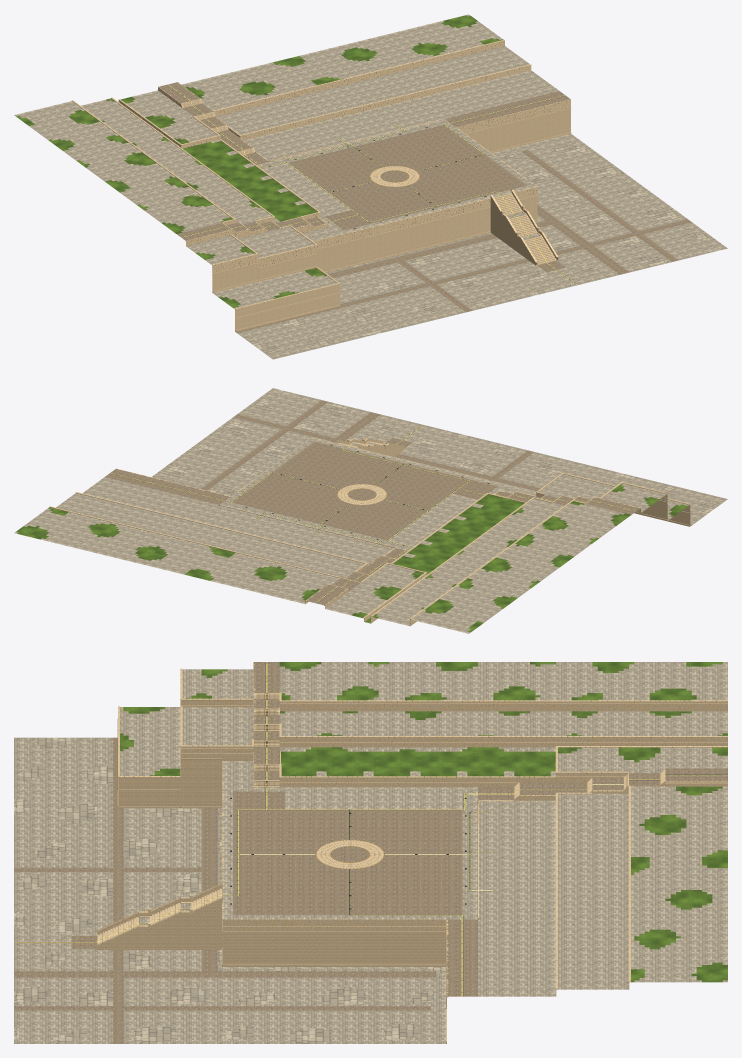
3 renders of one model, top to bottom at view 1: azimuth 30°, elevation 25°; view 2: azimuth 150°, elevation 25°; view 3: azimuth 270°, elevation 25°, orthographic. The views are drawn at different scales.
Visible parts, largest first — view 1: ground_flags, seaside_stone, ground_cobbles, ground_grass, grid_glass, grid_bed; view 2: ground_flags, ground_cobbles, ground_grass, seaside_stone, grid_glass, grid_bed; view 3: ground_flags, seaside_stone, ground_cobbles, ground_grass, grid_glass, grid_bronze, grid_bed.
Part boxes in pixels (bbox=[...]): ground_flags: bbox=[14, 14, 727, 359]; seaside_stone: bbox=[72, 40, 571, 331]; ground_cobbles: bbox=[158, 82, 691, 332]; ground_grass: bbox=[16, 15, 720, 353]; grid_glass: bbox=[168, 84, 576, 284]; grid_bed: bbox=[167, 84, 576, 285]; ground_flags: bbox=[14, 388, 727, 633]; ground_cobbles: bbox=[105, 400, 691, 605]; ground_grass: bbox=[16, 389, 719, 632]; seaside_stone: bbox=[49, 437, 690, 626]; grid_glass: bbox=[111, 425, 635, 602]; grid_bed: bbox=[113, 425, 633, 602]; ground_flags: bbox=[14, 662, 727, 1043]; seaside_stone: bbox=[97, 662, 727, 1043]; ground_cobbles: bbox=[14, 662, 727, 1043]; ground_grass: bbox=[14, 662, 727, 1043]; grid_glass: bbox=[15, 662, 726, 996]; grid_bronze: bbox=[14, 662, 659, 995]; grid_bed: bbox=[139, 662, 726, 995].
Bounding box in the file's own units: 139 × 16.46 × 137.
9 materials, 5 textured.
